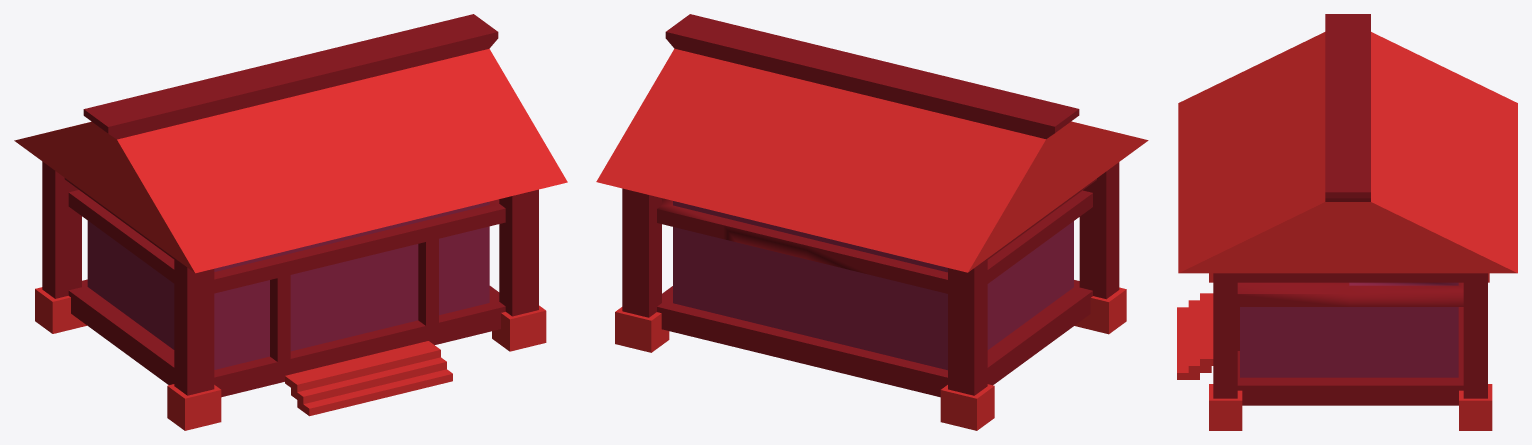
The model's file is Building2.fbx.
3 views of the same model, side by side, from view 1: azimuth 30°, elevation 25°; view 2: azimuth 150°, elevation 25°; view 3: azimuth 270°, elevation 25° (orthographic). The views are drawn at different scales.
Parts seen in each view (by area): view 1: pCube16; view 2: pCube16; view 3: pCube16.
Boxes of the visible parts, x1,y1,x2,y2 form: pCube16: (14, 14, 567, 430); pCube16: (596, 14, 1148, 430); pCube16: (1177, 14, 1517, 430).
Bounding box in the file's own units: 16.88 × 10.84 × 13.65.
